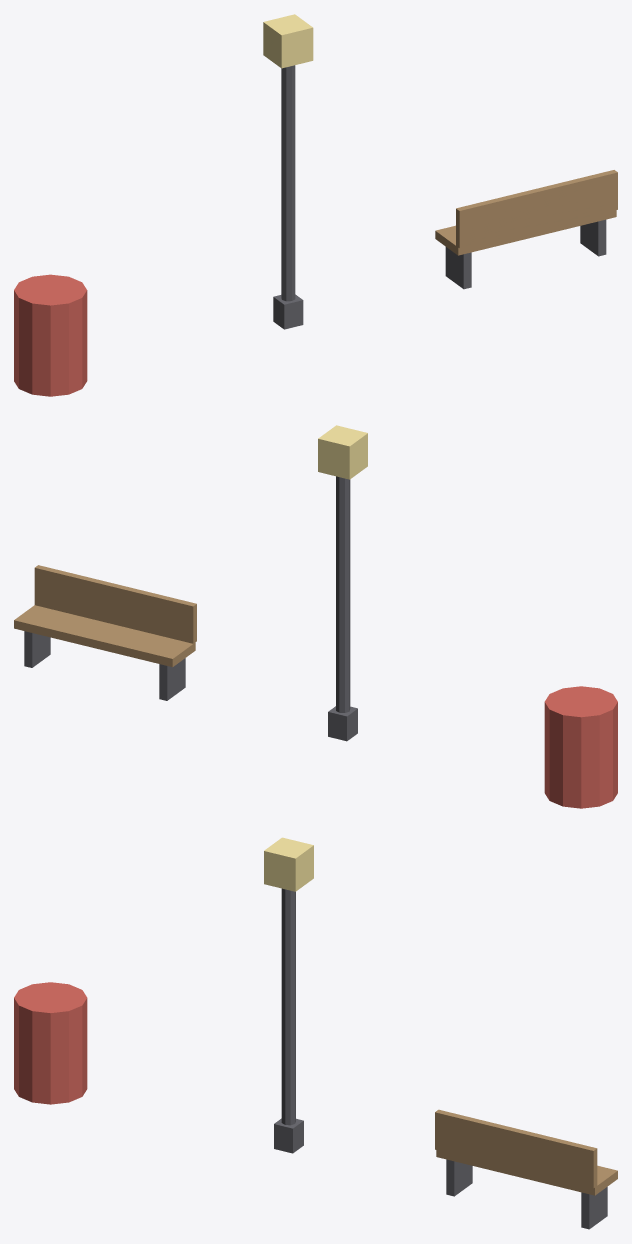
The model's file is town_kit.glb.
The picture shows the model from 3 angles, top to bottom: view 1: azimuth 30°, elevation 25°; view 2: azimuth 150°, elevation 25°; view 3: azimuth 330°, elevation 25°; orthographic projection.
Visible parts, largest first — view 1: bench, barrel, lamp_post; view 2: bench, barrel, lamp_post; view 3: bench, barrel, lamp_post.
Part boxes in pixels (x1,y1,x2,y2): bench: [435, 170, 617, 289]; barrel: [14, 274, 87, 396]; lamp_post: [263, 14, 313, 329]; bench: [14, 565, 196, 700]; barrel: [544, 686, 617, 808]; lamp_post: [318, 425, 367, 741]; bench: [435, 1109, 617, 1229]; barrel: [14, 982, 87, 1104]; lamp_post: [264, 837, 313, 1153].
Bounding box in the file's own units: 7.4 × 3.6 × 0.8.
